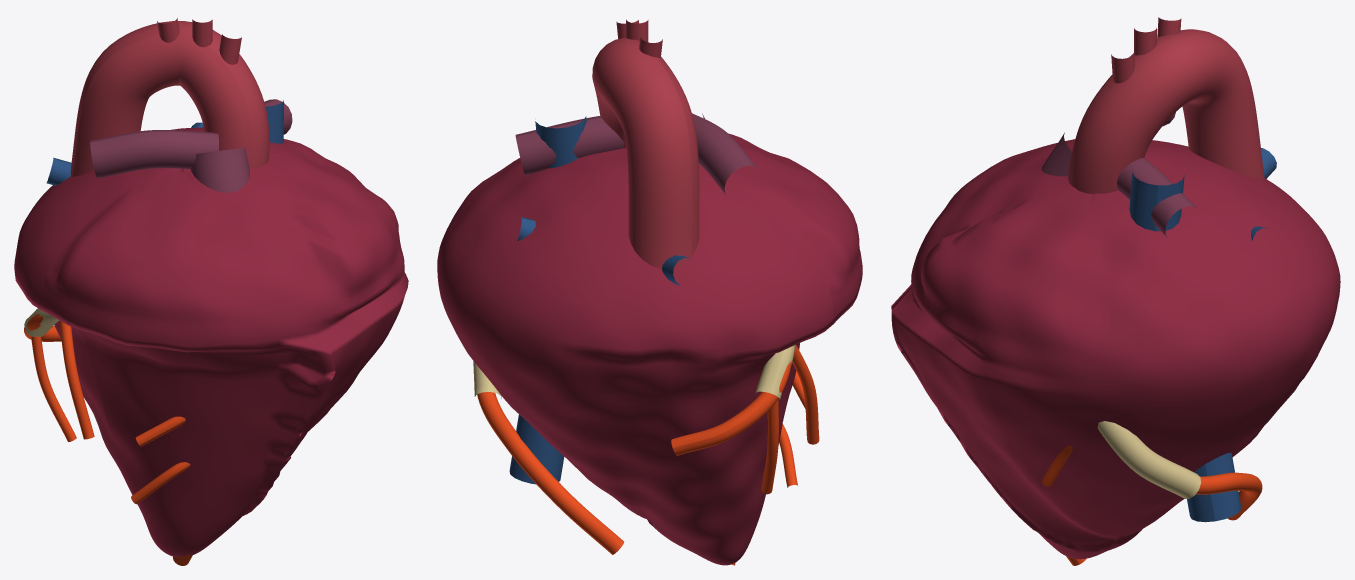
File: heart.glb
3 renders of one model, left to right at view 1: azimuth 30°, elevation 25°; view 2: azimuth 150°, elevation 25°; view 3: azimuth 270°, elevation 25°, orthographic. The views are drawn at different scales.
Visible parts, largest first — view 1: Heart_Body, Aorta, Pulmonary_Artery, LCX_Vessel, LAD_Vessel, Great_Veins; view 2: Heart_Body, Aorta, Pulmonary_Artery, LCX_Vessel, RCA_Vessel, Great_Veins, Epicardial_Fat, LAD_Vessel; view 3: Heart_Body, Aorta, Great_Veins, Epicardial_Fat, Pulmonary_Artery, RCA_Vessel.
Boxes of the visible parts, x1,y1,x2,y2 form: Heart_Body: (14,127,408,557); Aorta: (70,18,269,176); Pulmonary_Artery: (90,99,292,192); LCX_Vessel: (24,314,94,441); LAD_Vessel: (131,416,192,565); Great_Veins: (46,100,283,185); Heart_Body: (437,133,862,565); Aorta: (592,19,699,268); Pulmonary_Artery: (515,113,757,195); LCX_Vessel: (671,345,819,494); RCA_Vessel: (477,392,623,554); Great_Veins: (509,116,689,484); Epicardial_Fat: (473,345,794,399); LAD_Vessel: (731,371,805,565); Heart_Body: (891,139,1340,559); Aorta: (1068,17,1264,194); Great_Veins: (1129,148,1276,522); Epicardial_Fat: (1097,421,1200,498); Pulmonary_Artery: (1041,112,1196,238); RCA_Vessel: (1042,446,1262,520).
Bounding box in the file's own units: 2.63 × 3.81 × 2.75.
